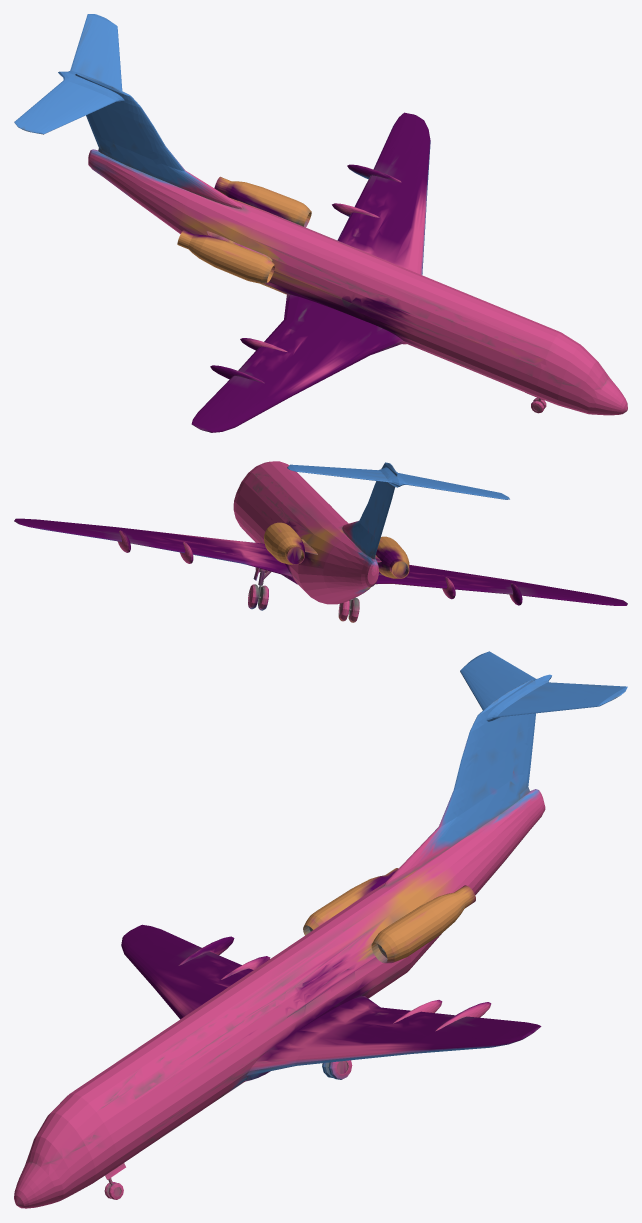
3 views of the same model, one above another, from view 1: azimuth 30°, elevation 25°; view 2: azimuth 150°, elevation 25°; view 3: azimuth 270°, elevation 25° (orthographic). The views are drawn at different scales.
Visible parts, largest first — view 1: geometry_0.026; view 2: geometry_0.026; view 3: geometry_0.026.
Part boxes in pixels (x1=…): geometry_0.026: x1=14, y1=14, x2=627, y2=432; geometry_0.026: x1=14, y1=461, x2=627, y2=622; geometry_0.026: x1=14, y1=651, x2=627, y2=1208.
Bounding box in the file's own units: 1.37 × 0.9394 × 1.41.
